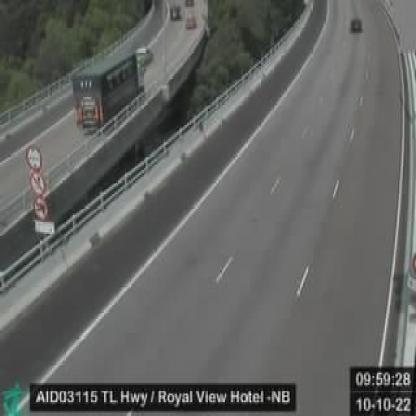Bus: (75, 50, 145, 130)
Car: (351, 17, 364, 34), (187, 13, 198, 32), (172, 4, 182, 20)
